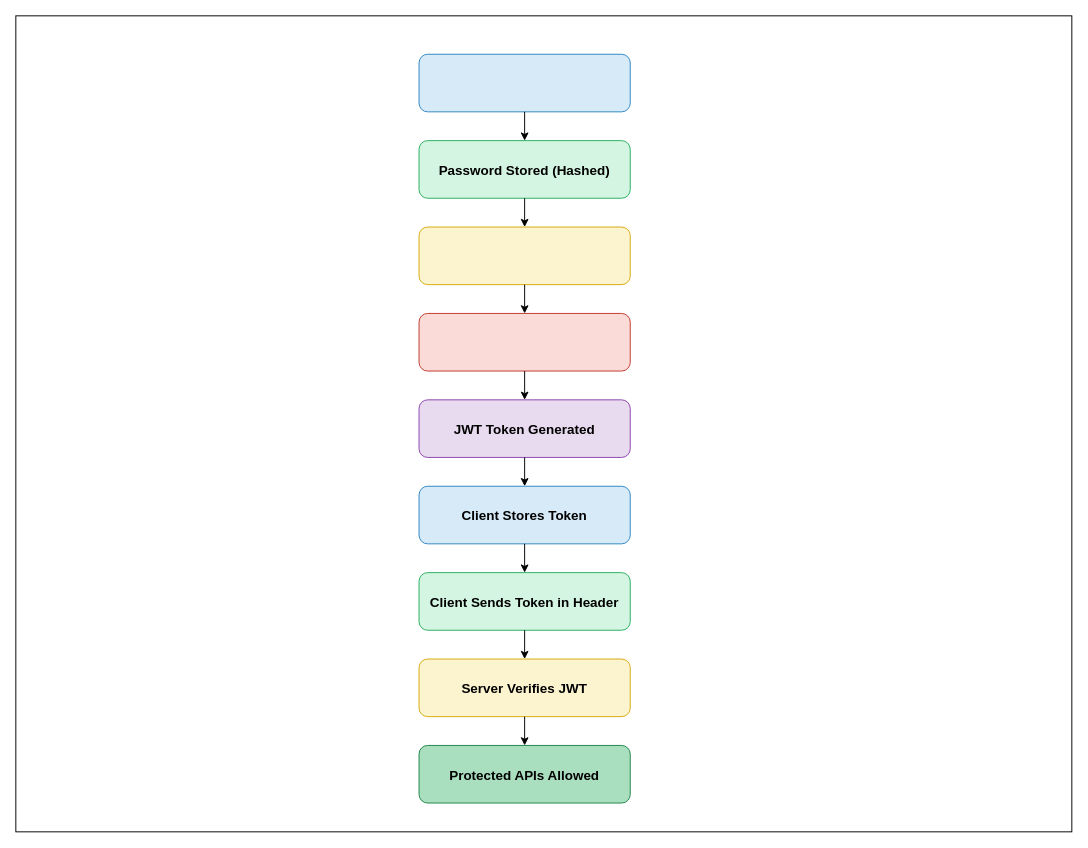
The diagram is 1088 pixels wide and 848 high, and some of its shapes have lost their labels. The shapes that lost their labels are listed below. From the top down, each one's centre as x and y in pixels, then its label:
point (524, 82): User Registers
point (524, 255): User Logs In
point (524, 341): Server Validates Password
